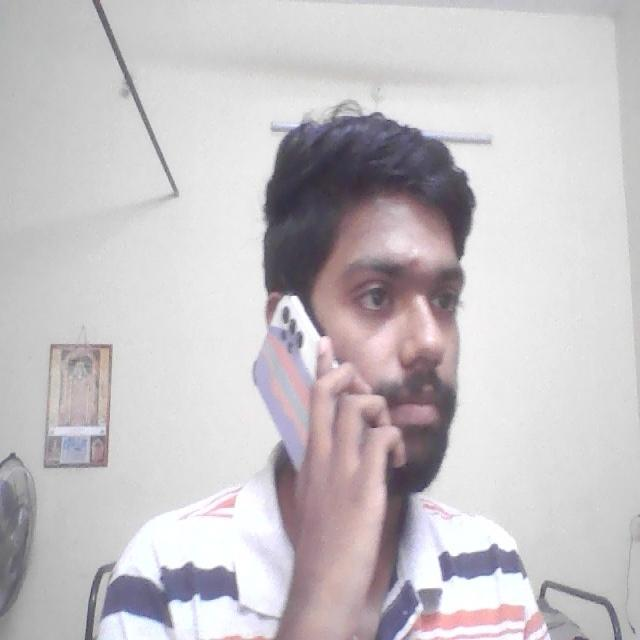Mobile: (244, 268, 339, 470)
